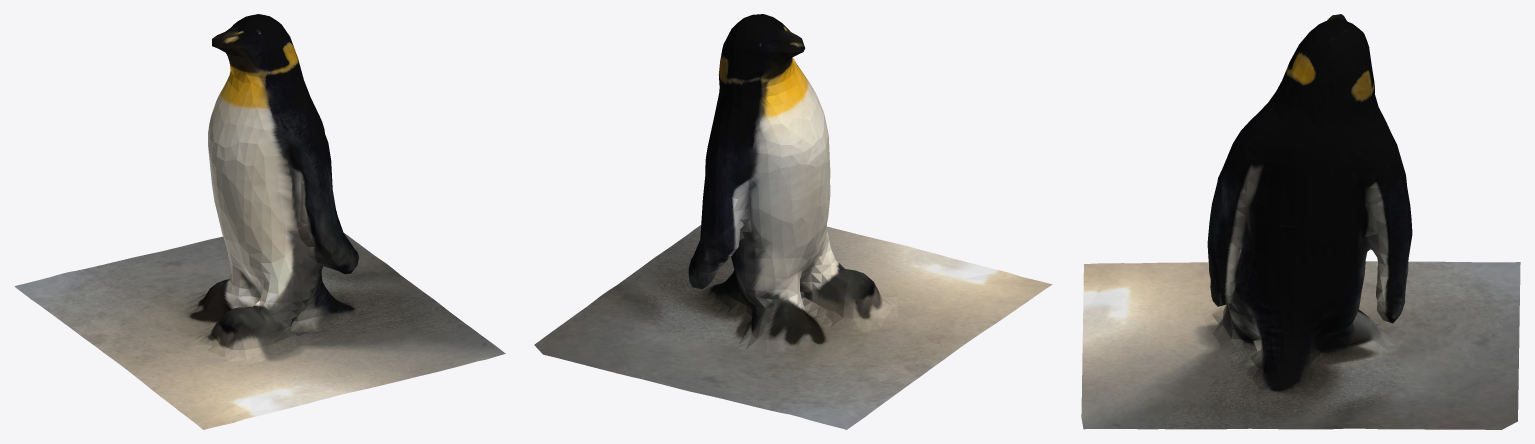
The model's file is mbo_friends_penguin.glb.
The picture shows the model from 3 angles, left to right: view 1: azimuth 30°, elevation 25°; view 2: azimuth 150°, elevation 25°; view 3: azimuth 270°, elevation 25°; orthographic projection. The views are drawn at different scales.
Size of the model in its own units: 1.11 by 1.02 by 1.22.
1 material, 1 textured.
